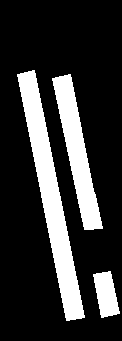parkingspot: (17, 70, 84, 320), (52, 74, 102, 229), (93, 271, 119, 317)
